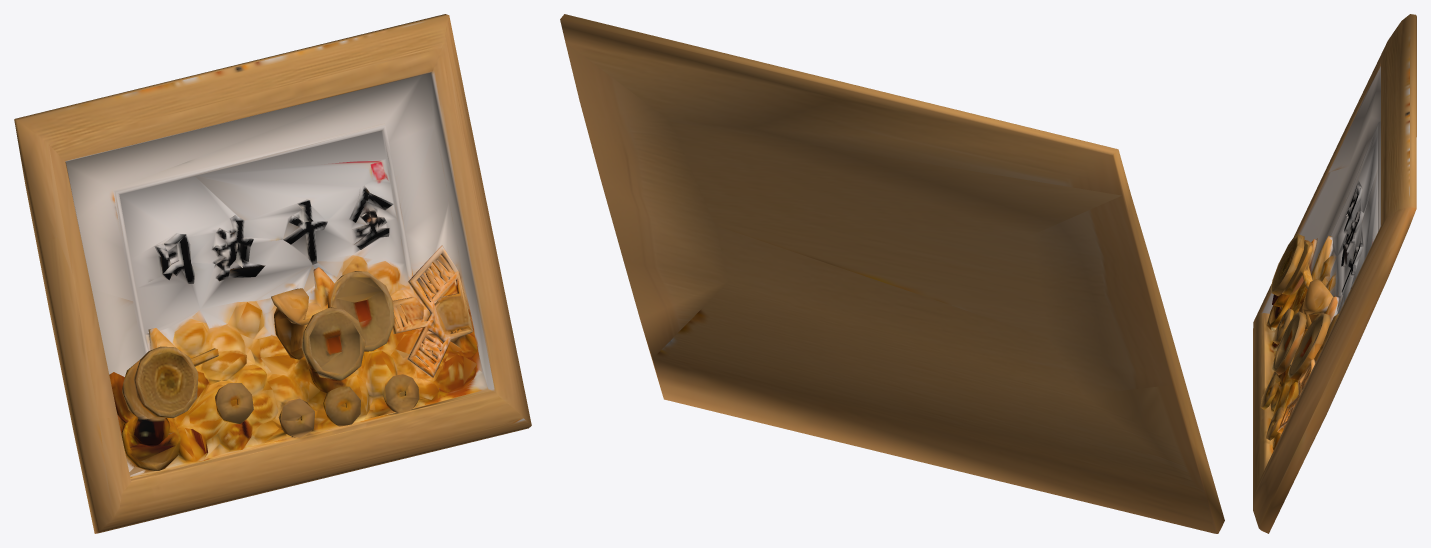
The model's file is 创意相框-Small.fbx.
3 renders of one model, left to right at view 1: azimuth 30°, elevation 25°; view 2: azimuth 150°, elevation 25°; view 3: azimuth 270°, elevation 25°, orthographic. The views are drawn at different scales.
Parts seen in each view (by area): view 1: texture_pbr_v128; view 2: texture_pbr_v128; view 3: texture_pbr_v128.
Boxes of the visible parts, x1,y1,x2,y2 form: texture_pbr_v128: (14, 14, 531, 533); texture_pbr_v128: (560, 14, 1224, 533); texture_pbr_v128: (1253, 14, 1416, 533).
Bounding box in the file's own units: 81.3 × 64.03 × 29.07.
Materials: 1 (1 with a texture image).
